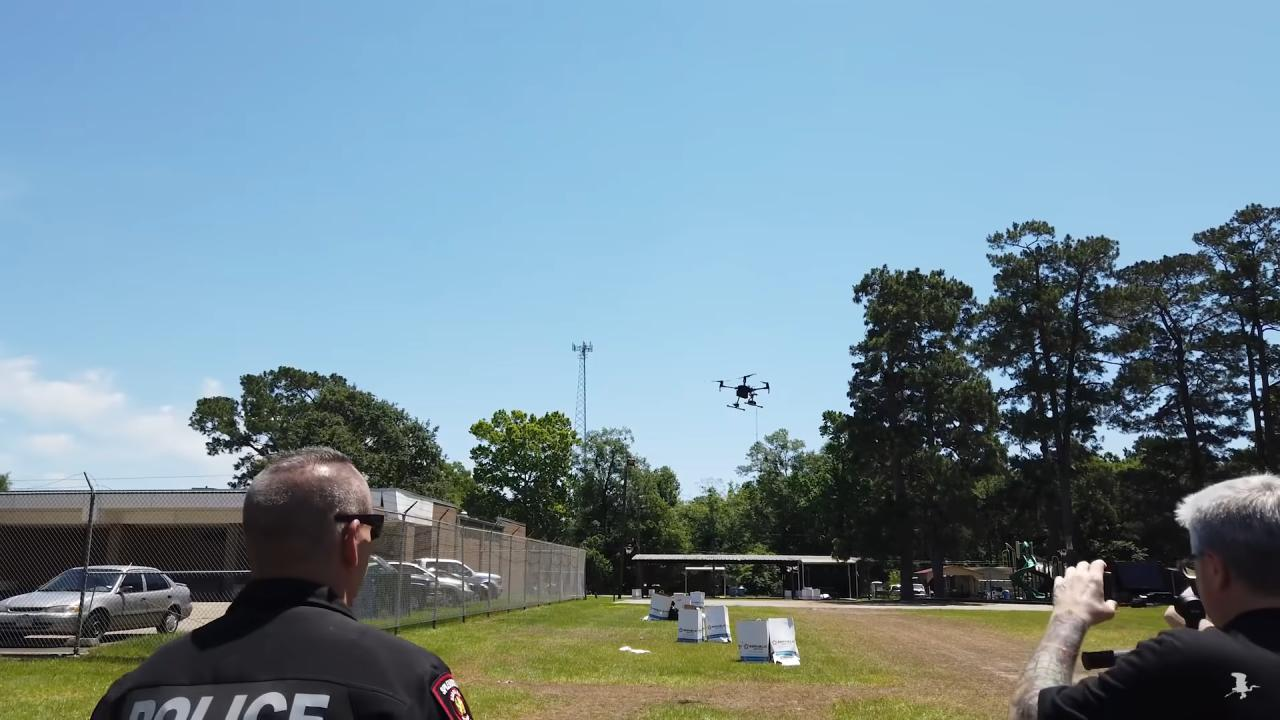Drone: (706, 367, 779, 420)
